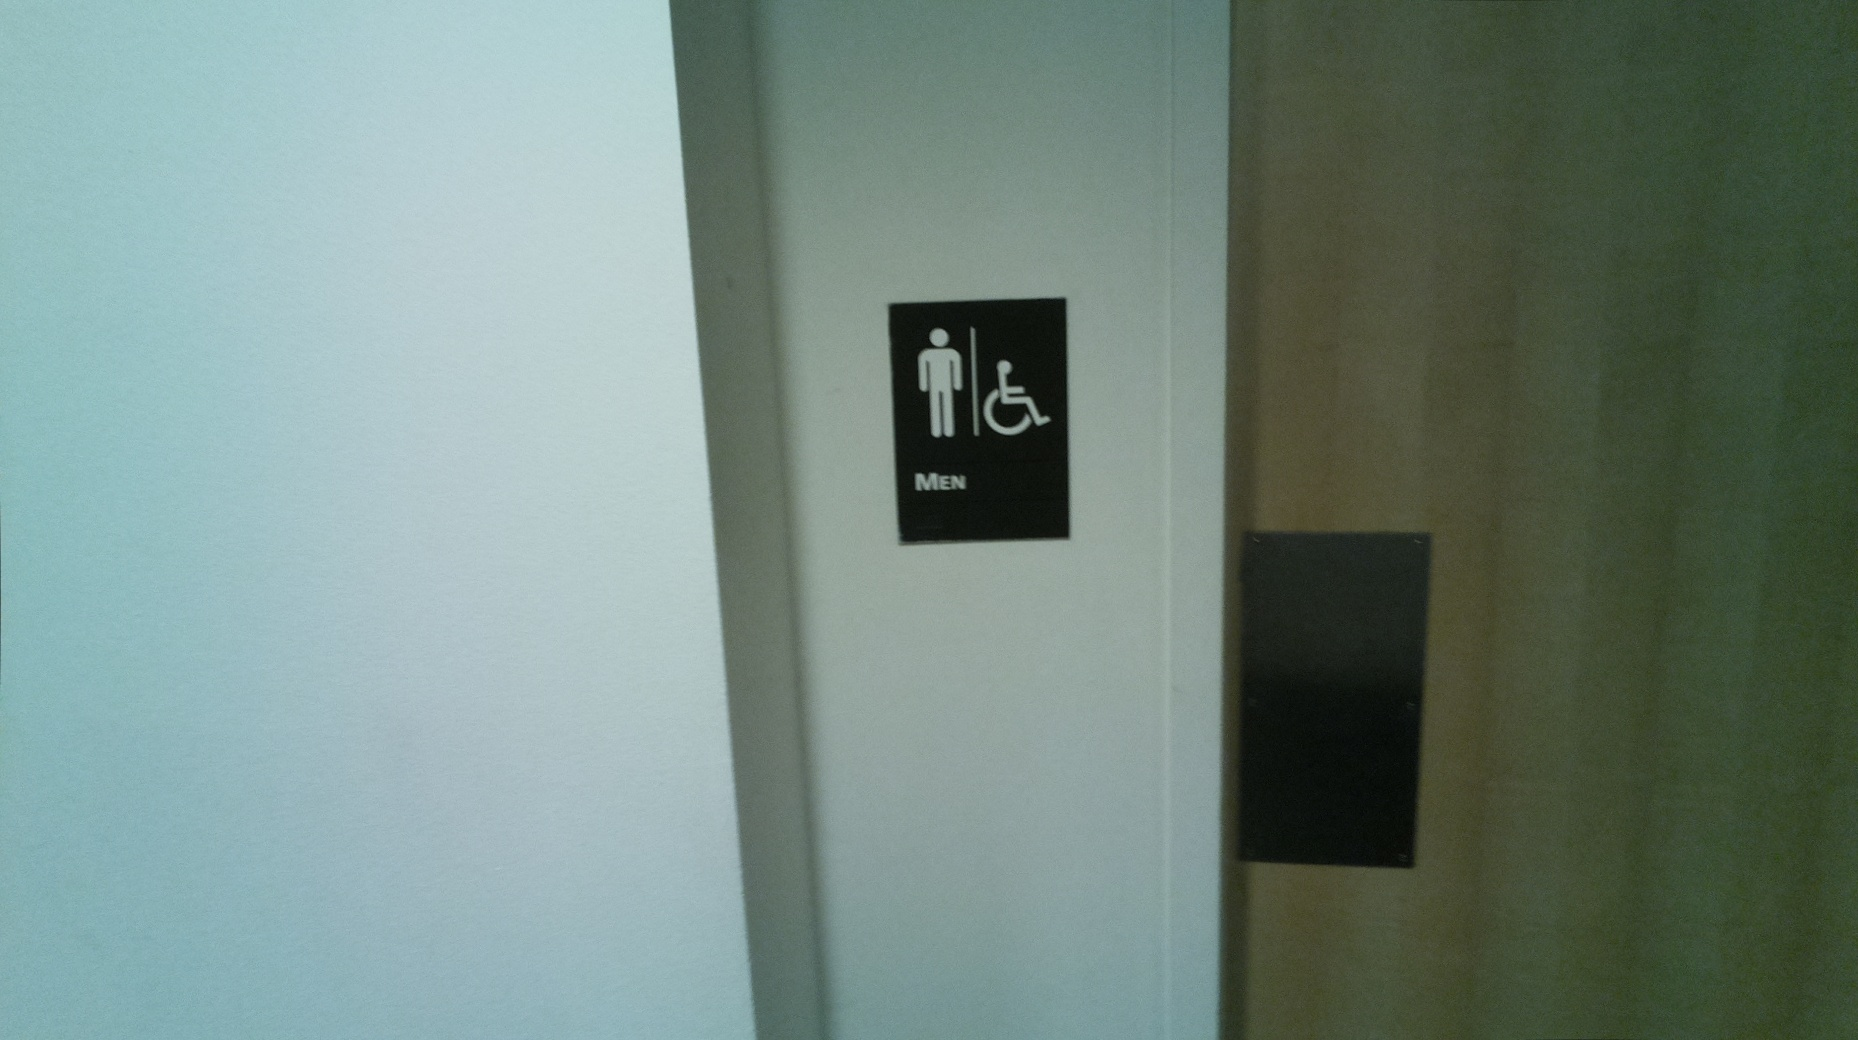bathroom sign: (881, 291, 1080, 553)
